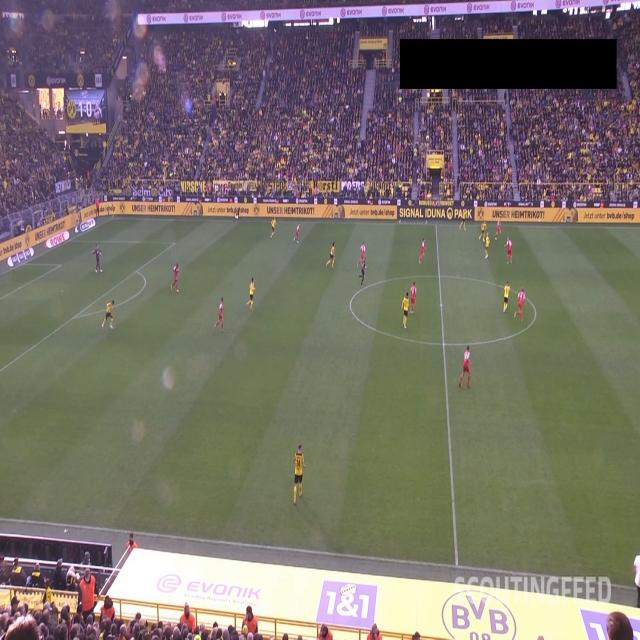ball: (494, 236, 498, 241)
f_player: (290, 440, 308, 509), (458, 344, 472, 390), (213, 295, 227, 336), (244, 275, 258, 313), (514, 286, 526, 324), (102, 298, 115, 330), (169, 261, 181, 295), (400, 290, 410, 330), (92, 242, 104, 275), (325, 239, 337, 269), (409, 279, 418, 316), (357, 240, 368, 270), (502, 279, 511, 314), (504, 235, 514, 266), (418, 236, 427, 266), (292, 220, 302, 245), (269, 215, 278, 242), (478, 219, 488, 243), (459, 208, 468, 232), (494, 214, 502, 241), (484, 231, 490, 260)
umpire: (358, 256, 367, 285)
